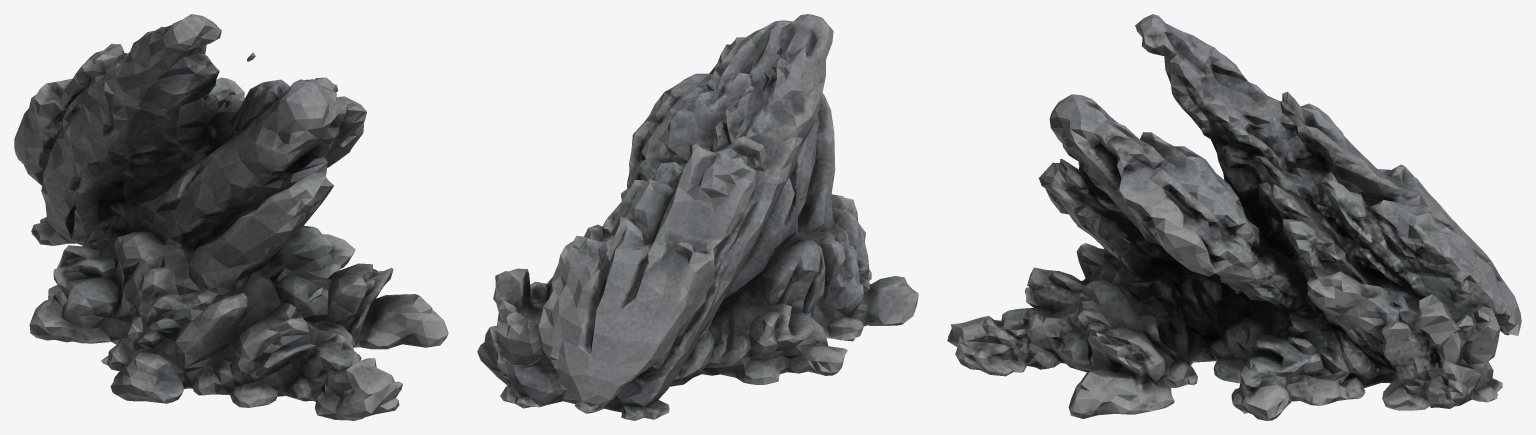
File: seiryu-1.glb
The picture shows the model from 3 angles, left to right: view 1: azimuth 30°, elevation 25°; view 2: azimuth 150°, elevation 25°; view 3: azimuth 270°, elevation 25°; orthographic projection. The views are drawn at different scales.
Visible parts, largest first — view 1: tripo_node_bc0affce-de02-47c5-8e86-a583034f8d31; view 2: tripo_node_bc0affce-de02-47c5-8e86-a583034f8d31; view 3: tripo_node_bc0affce-de02-47c5-8e86-a583034f8d31.
Boxes of the visible parts, bbox=[...] form: tripo_node_bc0affce-de02-47c5-8e86-a583034f8d31: bbox=[14, 14, 448, 420]; tripo_node_bc0affce-de02-47c5-8e86-a583034f8d31: bbox=[477, 14, 918, 420]; tripo_node_bc0affce-de02-47c5-8e86-a583034f8d31: bbox=[947, 14, 1521, 420].
Size of the model in its own units: 0.5773 by 0.5949 by 1.
Materials: 1 (1 with a texture image).
